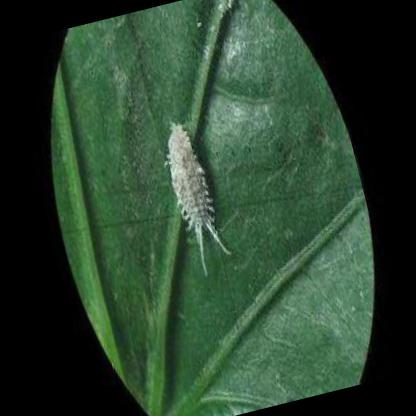mealy bug: (165, 129, 228, 272)
